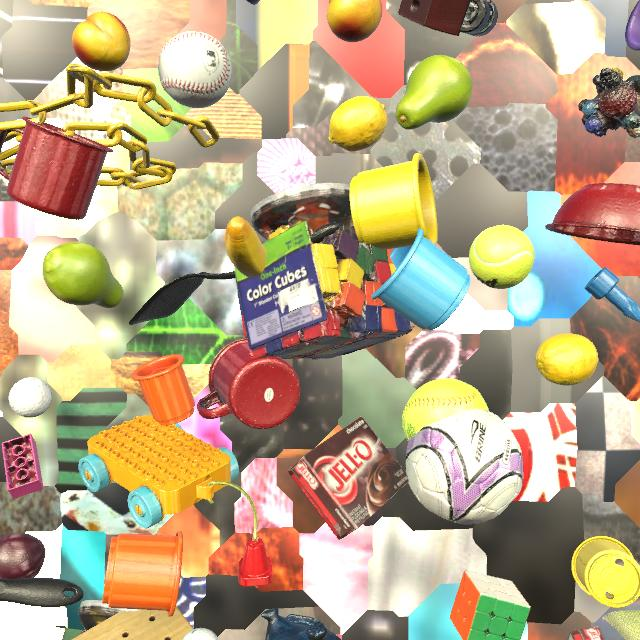ycb_007_tuna_fish_can: (246, 0, 260, 5)
ycb_008_pudding_box: (287, 416, 409, 540), (568, 626, 605, 640)
ycb_011_banana: (224, 217, 267, 278)
ycb_014_lemon: (328, 96, 388, 151), (535, 333, 598, 385)
ycb_015_peach: (72, 12, 130, 72), (327, 0, 383, 42)
ycb_016_pear: (395, 55, 473, 130), (42, 242, 123, 308)
ycb_018_plum: (0, 533, 46, 579)
